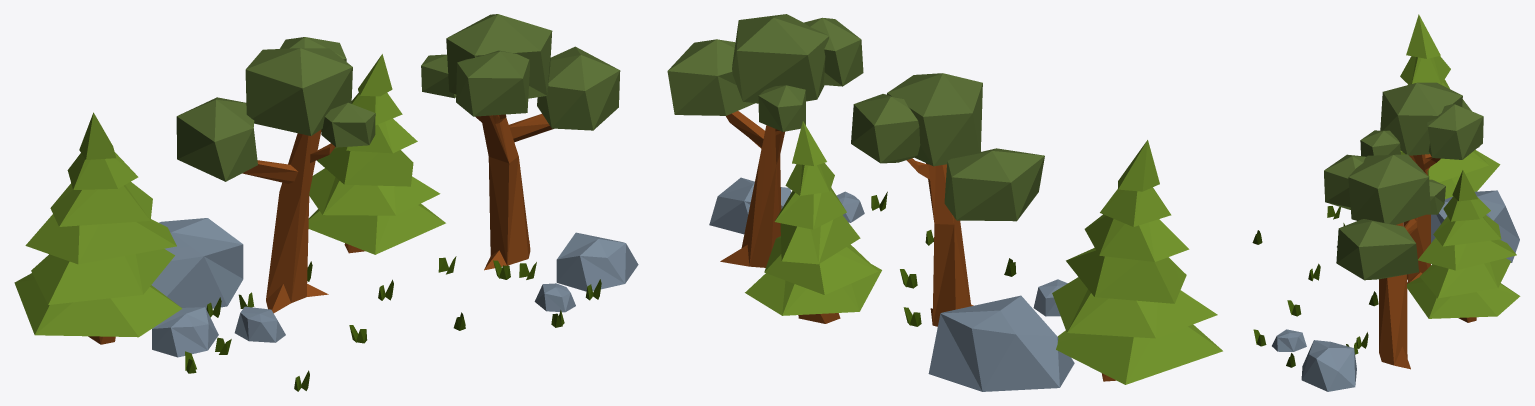
Rendered from forest.fbx.
The picture shows the model from 3 angles, left to right: view 1: azimuth 30°, elevation 25°; view 2: azimuth 150°, elevation 25°; view 3: azimuth 270°, elevation 25°; orthographic projection. The views are drawn at different scales.
Parts seen in each view (by area): view 1: Low+Poly+Sets; view 2: Low+Poly+Sets; view 3: Low+Poly+Sets.
Boxes of the visible parts, <box> form: Low+Poly+Sets: <box>14,14,638,391</box>; Low+Poly+Sets: <box>667,14,1222,391</box>; Low+Poly+Sets: <box>1252,14,1520,391</box>.
Bounding box in the file's own units: 15266 × 6790 × 7868.
Materials: 5 (5 with a texture image).
